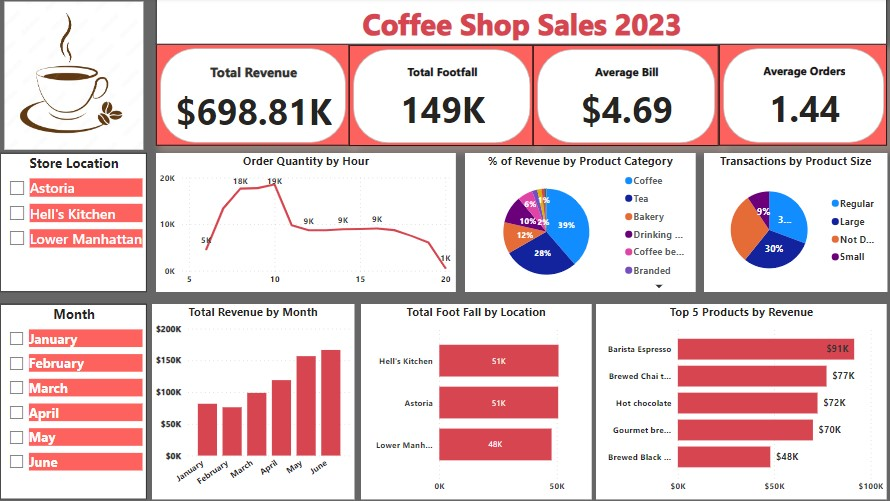

What the dashboard file says about the page in this screenshot:
{"tool":"powerbi","page":{"name":"Page 1","canvas":[1280,720],"ordinal":0},"visuals":[{"type":"cardVisual","fields":{"Data":["Measures (2).Total Revenue"]},"box":[234,65.6,274,144.1],"z":0},{"type":"cardVisual","fields":{"Data":["Measures (2).Total Foot Fall"]},"box":[507.7,66.1,261,143],"z":1000},{"type":"cardVisual","fields":{"Data":["Measures (2).Average Bill"]},"box":[768.7,66.1,262.8,143],"z":2000},{"type":"cardVisual","fields":{"Data":["Measures (2).Average Orders"]},"box":[1031.7,65.6,238.3,144.1],"z":3000},{"type":"slicer","title":"Store Location","fields":{"Values":["Transactions.store_location"]},"box":[12.8,219.8,208.3,196.9],"z":4000},{"type":"image","box":[0,0,233.9,219.7],"z":5000},{"type":"shape","box":[234,0,1036,65.6],"z":6000},{"type":"slicer","title":"Month","fields":{"Values":["Transactions.Month Name"]},"box":[12.8,433.8,208.3,276.8],"z":7000},{"type":"columnChart","title":"Total Revenue by Month","fields":{"Y":["Measures (2).Total Revenue"],"Category":["Transactions.Month Name"]},"box":[228.3,433.8,286.8,276.8],"z":8000},{"type":"lineChart","title":"Order Quantity by Hour","fields":{"Y":["CountNonNull(Transactions.transaction_qty)"],"Category":["Transactions.Hour"]},"box":[233.5,219.8,425.2,196.9],"z":9000},{"type":"pieChart","title":"% of Revenue by Product Category","fields":{"Y":["Sum(Transactions.Revenue)"],"Category":["Transactions.product_category"]},"box":[671.2,219.8,326.8,196.9],"z":10000},{"type":"pieChart","title":"Transactions by Product Size","fields":{"Category":["Transactions.Product Size"],"Y":["CountNonNull(Transactions.transaction_qty)"]},"box":[1010.3,219.8,259.7,196.9],"z":11000},{"type":"barChart","title":"Total Foot Fall by Location","fields":{"Y":["Measures (2).Total Foot Fall"],"Category":["Transactions.store_location"]},"box":[523.7,433.8,326.8,276.8],"z":12000},{"type":"barChart","title":"Top 5 Products by Revenue","fields":{"Y":["Sum(Transactions.Revenue)"],"Category":["Transactions.product_type"]},"box":[857.6,433.8,412.4,276.8],"z":13000}]}

Visuals, with their boxes in screenshot pixels (x1, y1, x2, y2), scaled from the page's 1280x720 canvas onto the 890x501 screenshot:
cardVisual - Measures (2).Total Revenue: box(163, 46, 353, 146)
cardVisual - Measures (2).Total Foot Fall: box(353, 46, 534, 145)
cardVisual - Measures (2).Average Bill: box(534, 46, 717, 145)
cardVisual - Measures (2).Average Orders: box(717, 46, 883, 146)
"Store Location" slicer: box(9, 153, 154, 290)
image: box(0, 0, 163, 153)
shape: box(163, 0, 883, 46)
"Month" slicer: box(9, 302, 154, 494)
"Total Revenue by Month" columnChart: box(159, 302, 358, 494)
"Order Quantity by Hour" lineChart: box(162, 153, 458, 290)
"% of Revenue by Product Category" pieChart: box(467, 153, 694, 290)
"Transactions by Product Size" pieChart: box(702, 153, 883, 290)
"Total Foot Fall by Location" barChart: box(364, 302, 591, 494)
"Top 5 Products by Revenue" barChart: box(596, 302, 883, 494)
